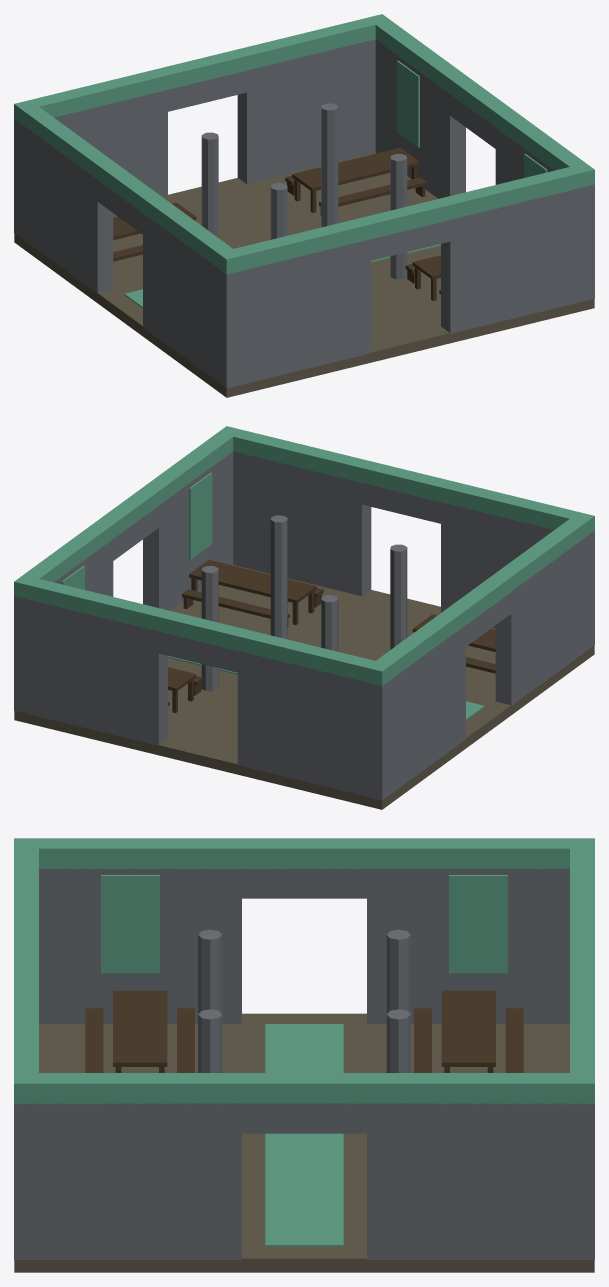
File: GreatHallMain.fbx
The picture shows the model from 3 angles, top to bottom: view 1: azimuth 30°, elevation 25°; view 2: azimuth 150°, elevation 25°; view 3: azimuth 270°, elevation 25°; orthographic projection. The views are drawn at different scales.
Parts seen in each view (by area): view 1: GreatHallMain; view 2: GreatHallMain; view 3: GreatHallMain.
Boxes of the visible parts, x1,y1,x2,y2 form: GreatHallMain: (14, 14, 594, 397); GreatHallMain: (14, 426, 594, 809); GreatHallMain: (14, 838, 594, 1272).
Bounding box in the file's own units: 1202 × 432 × 1202.
4 materials, 4 textured.
